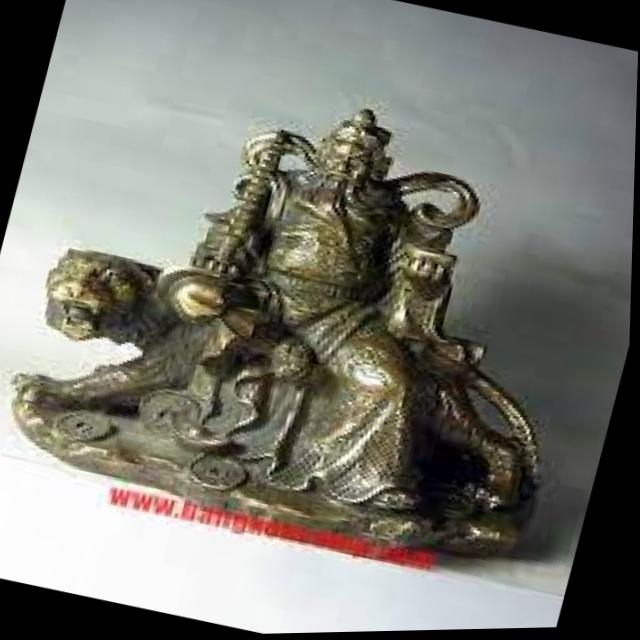Cai shen: (156, 84, 459, 419)
